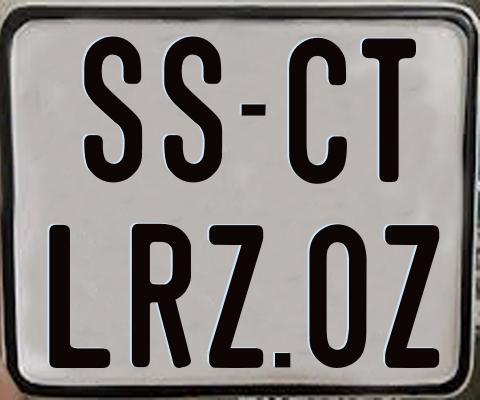0: (309, 223, 371, 372)
C: (286, 36, 345, 188)
L: (49, 225, 116, 368)
R: (132, 222, 193, 370)
S: (84, 35, 148, 186), (164, 33, 223, 181)
T: (361, 38, 419, 185)
Z: (207, 225, 265, 374), (382, 224, 436, 373)
